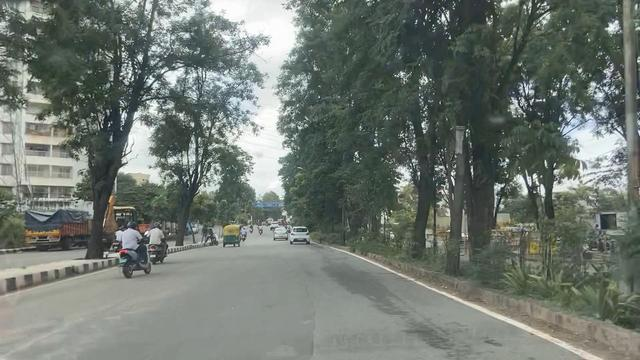LMV: (116, 225, 147, 275), (154, 221, 167, 266), (293, 223, 307, 248), (224, 223, 238, 246), (275, 226, 291, 243)
RoadDamages: (12, 321, 93, 359), (349, 277, 413, 320), (403, 311, 457, 345), (487, 332, 521, 352)
